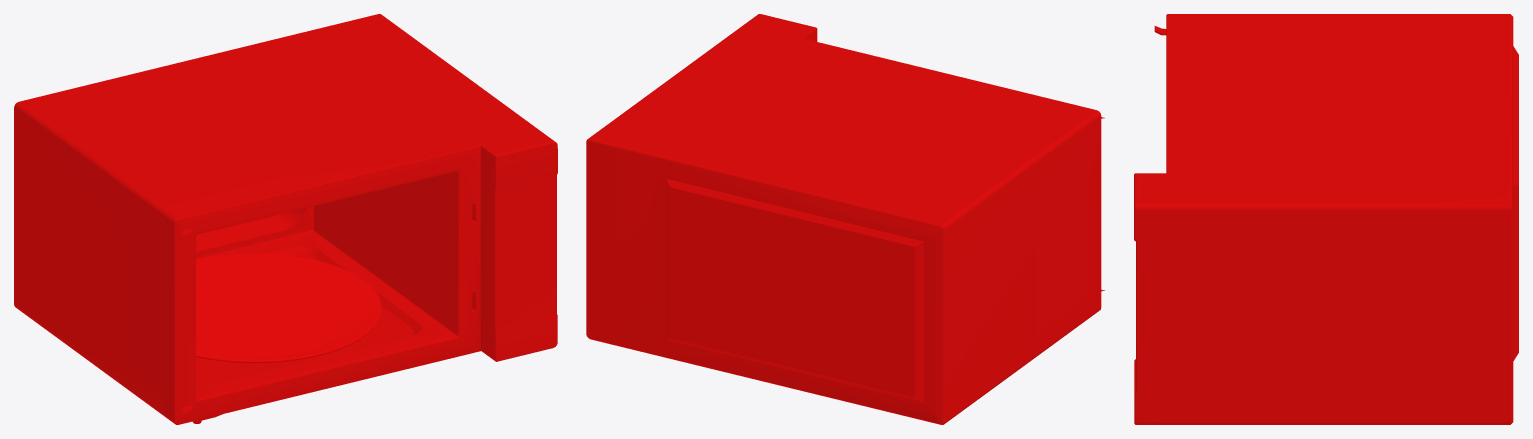
Rendered from SM_Microwave_01_body.glb.
3 renders of one model, left to right at view 1: azimuth 30°, elevation 25°; view 2: azimuth 150°, elevation 25°; view 3: azimuth 270°, elevation 25°, orthographic. The views are drawn at different scales.
Parts seen in each view (by area): view 1: SM_Microwave_01_body_LOD0; view 2: SM_Microwave_01_body_LOD0; view 3: SM_Microwave_01_body_LOD0.
Part boxes in pixels (left/top/right/bottom): SM_Microwave_01_body_LOD0: left=14, top=14, right=557, bottom=424; SM_Microwave_01_body_LOD0: left=586, top=14, right=1104, bottom=424; SM_Microwave_01_body_LOD0: left=1134, top=14, right=1518, bottom=424.
Size of what is drawn, in the model's own units: 0.6071 by 0.343 by 0.5107.
